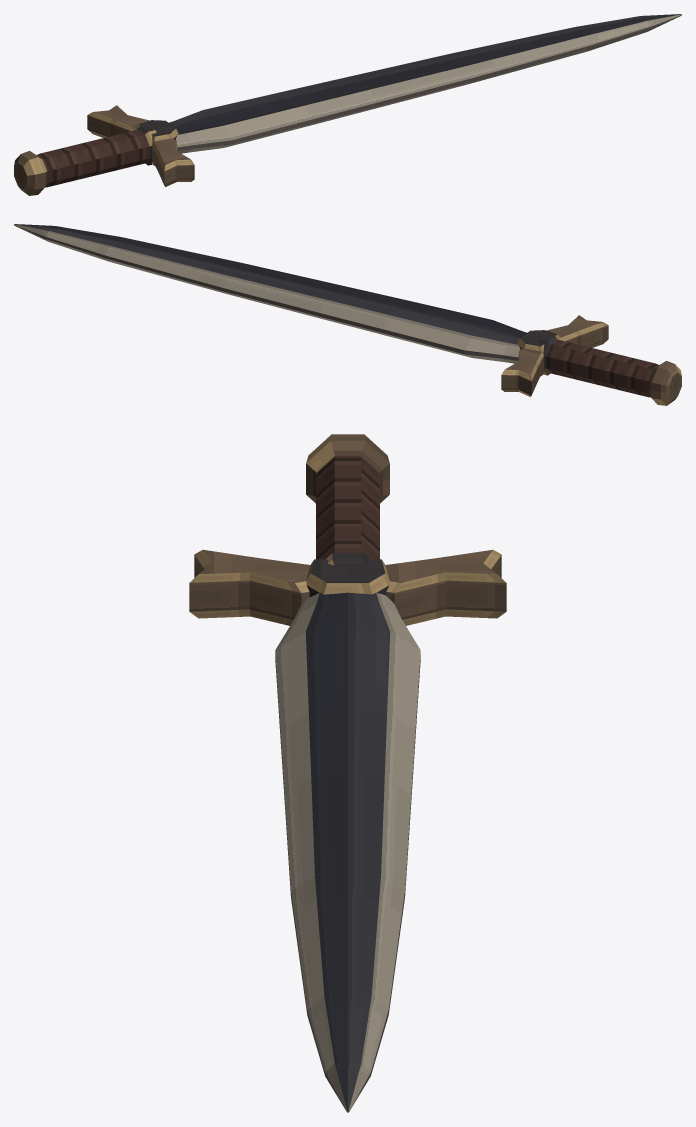
File: bench_guiyan_sword_5.obj
3 views of the same model, one above another, from view 1: azimuth 30°, elevation 25°; view 2: azimuth 150°, elevation 25°; view 3: azimuth 270°, elevation 25° (orthographic). The views are drawn at different scales.
Visible parts, largest first — view 1: geometry; view 2: geometry; view 3: geometry.
Part boxes in pixels (x1=…): geometry: x1=14, y1=14, x2=681, y2=195; geometry: x1=14, y1=224, x2=681, y2=405; geometry: x1=189, y1=434, x2=506, y2=1112.
Size of the model in its own units: 0.75 by 0.0411 by 0.1559.
